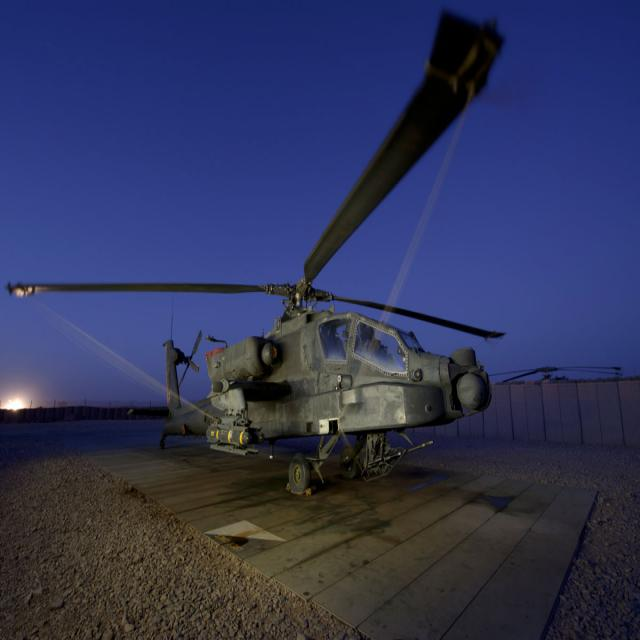Apache: (9, 13, 507, 494)
